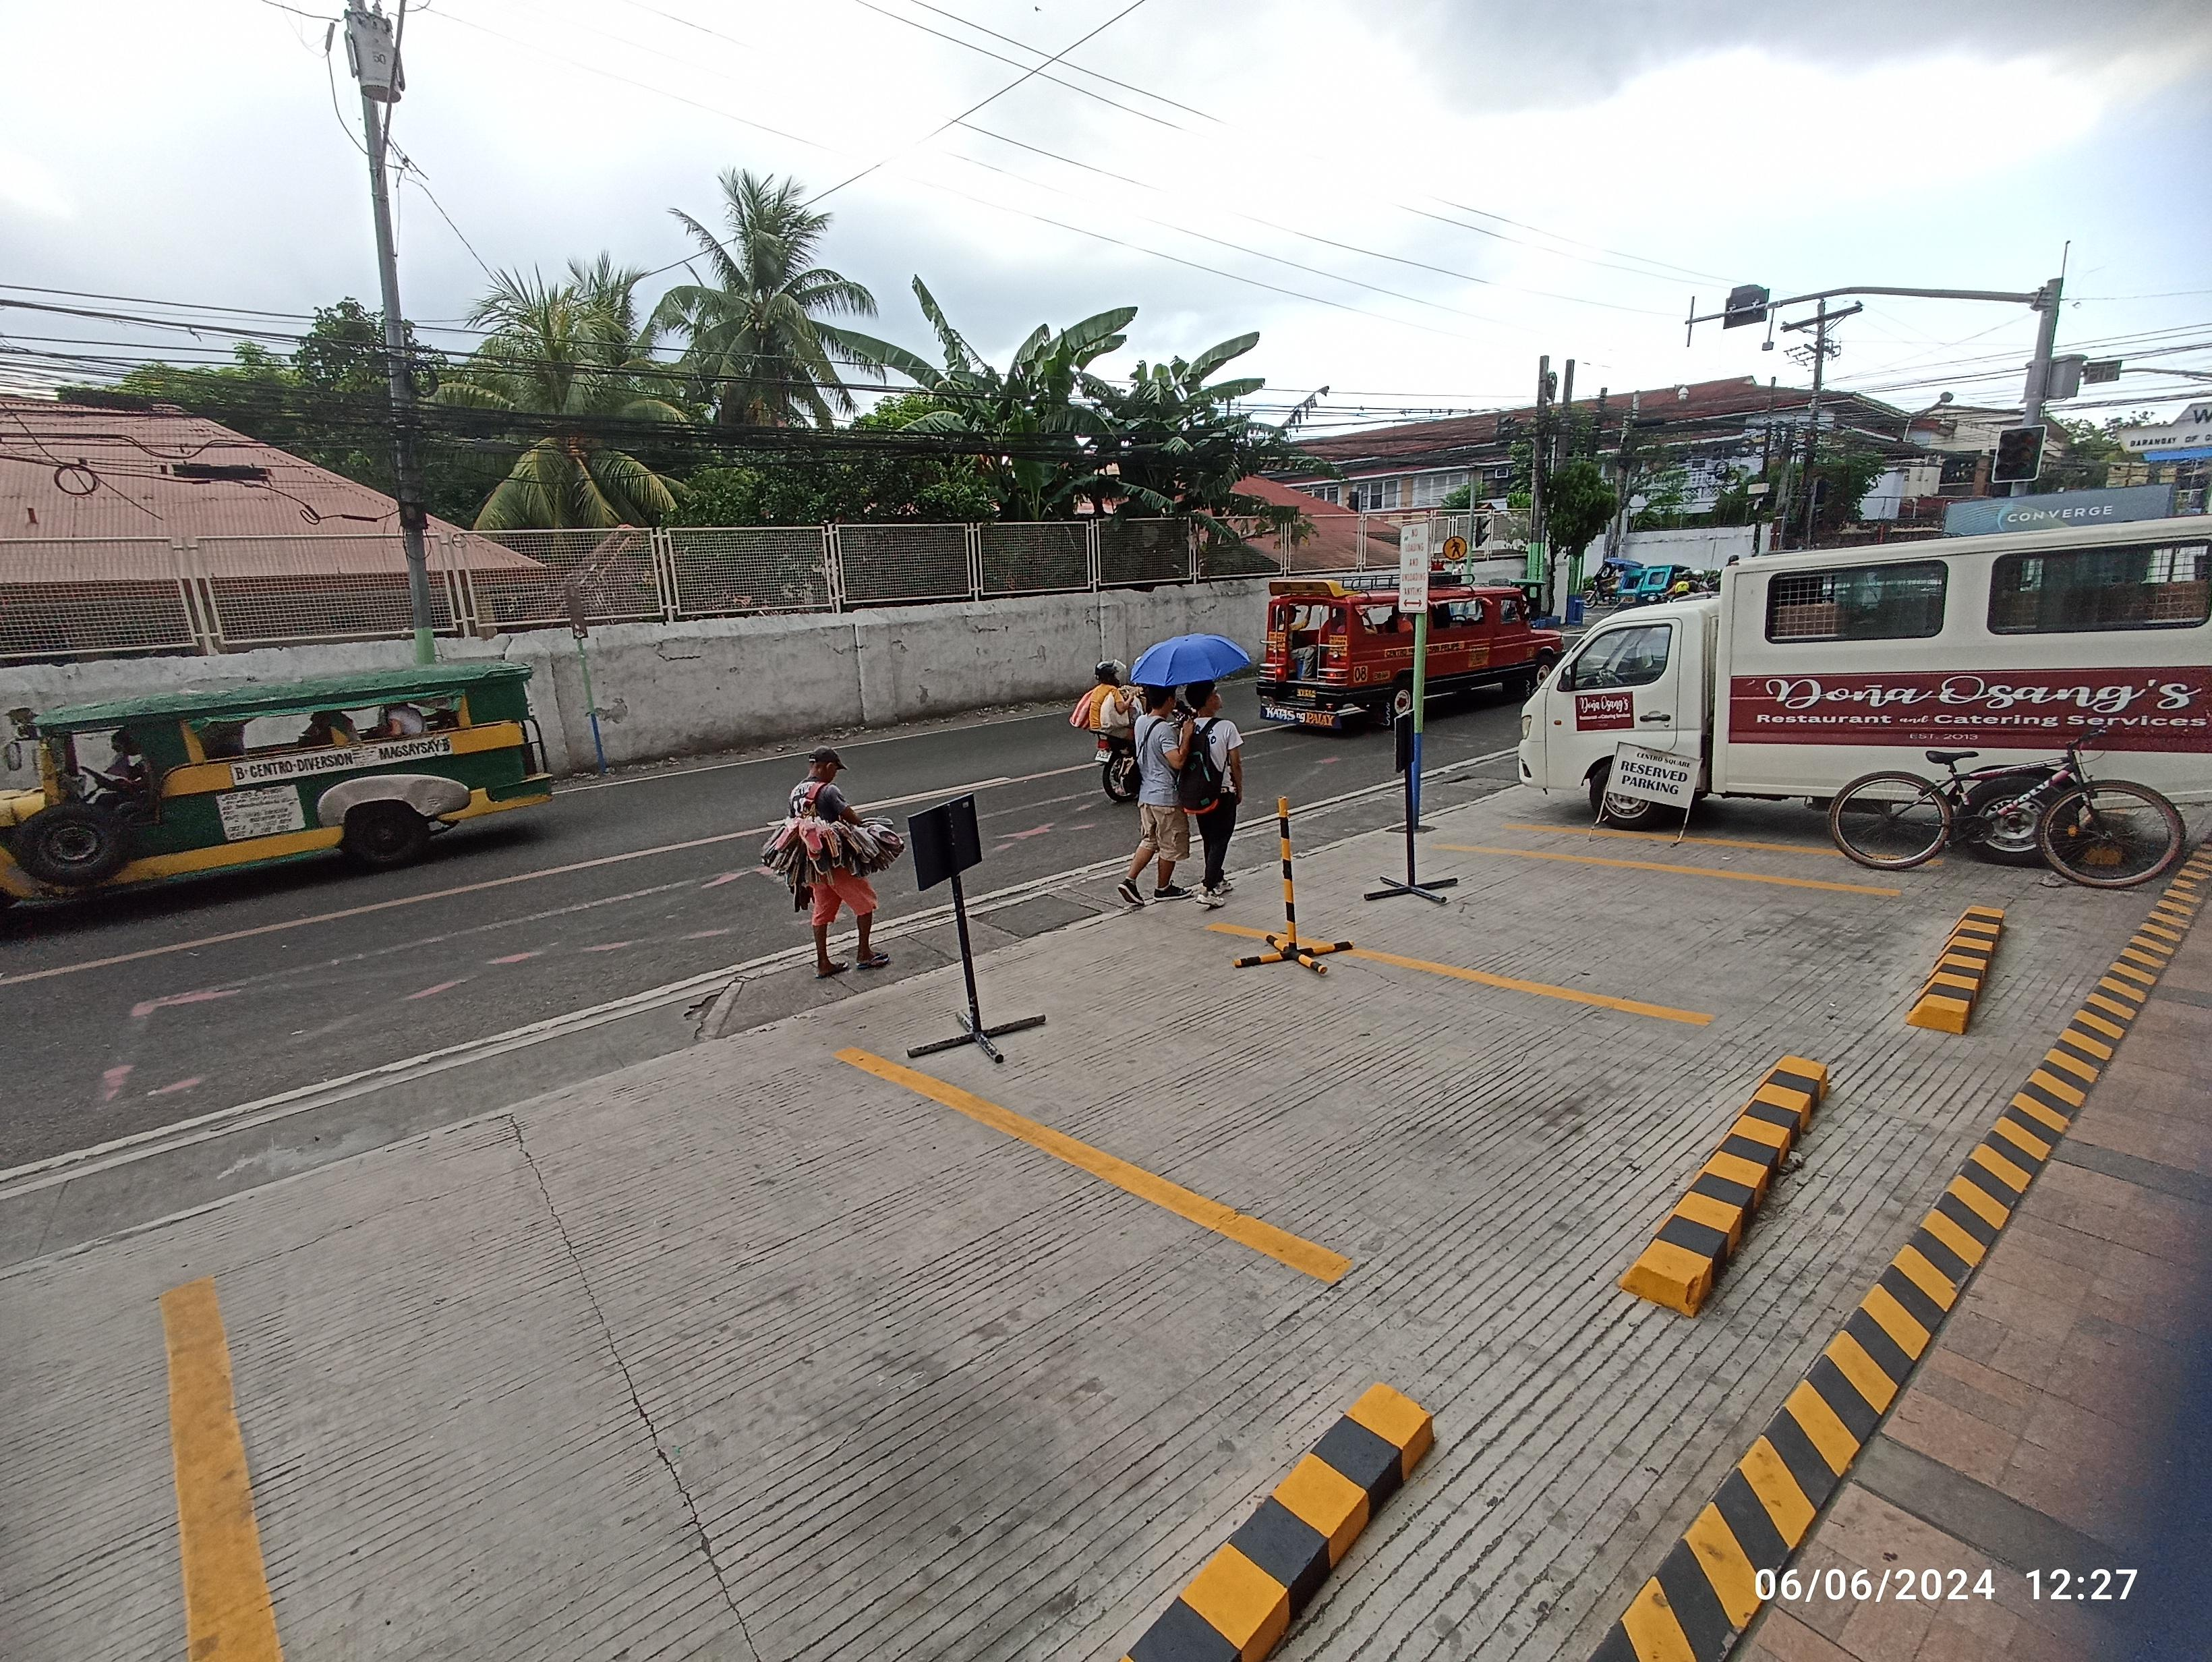vacant: (157, 1046, 1840, 1662), (833, 922, 2085, 1512), (1212, 841, 2198, 1096)
